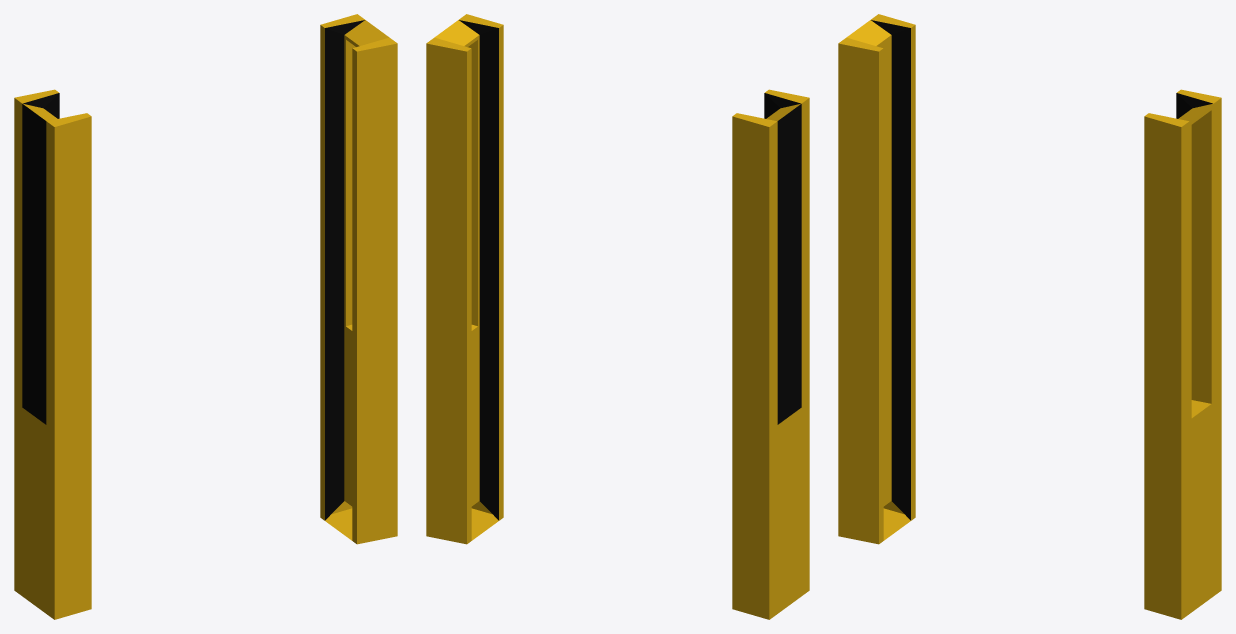
File: _lev2.fbx
The picture shows the model from 3 angles, left to right: view 1: azimuth 30°, elevation 25°; view 2: azimuth 150°, elevation 25°; view 3: azimuth 330°, elevation 25°; orthographic projection.
Parts seen in each view (by area): view 1: elev 2; view 2: elev 2; view 3: elev 2.
Boxes of the visible parts, x1,y1,x2,y2 form: elev 2: [14, 14, 397, 619]; elev 2: [426, 14, 809, 619]; elev 2: [838, 14, 1221, 619].
Size of the model in its own units: 374 by 513 by 75.9.
